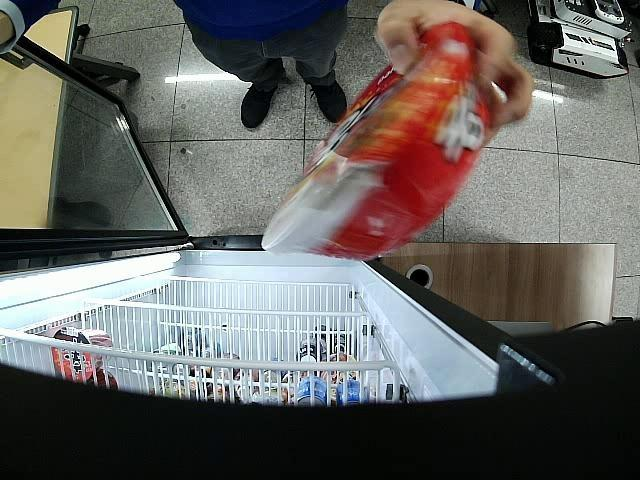10_wangTtukkeong: (262, 21, 492, 262)
